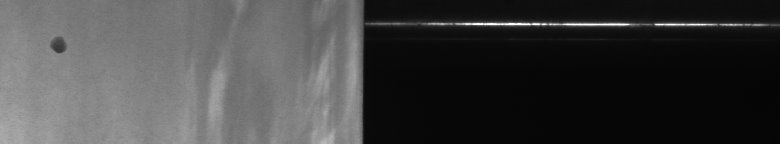fi: (45, 30, 72, 60)
